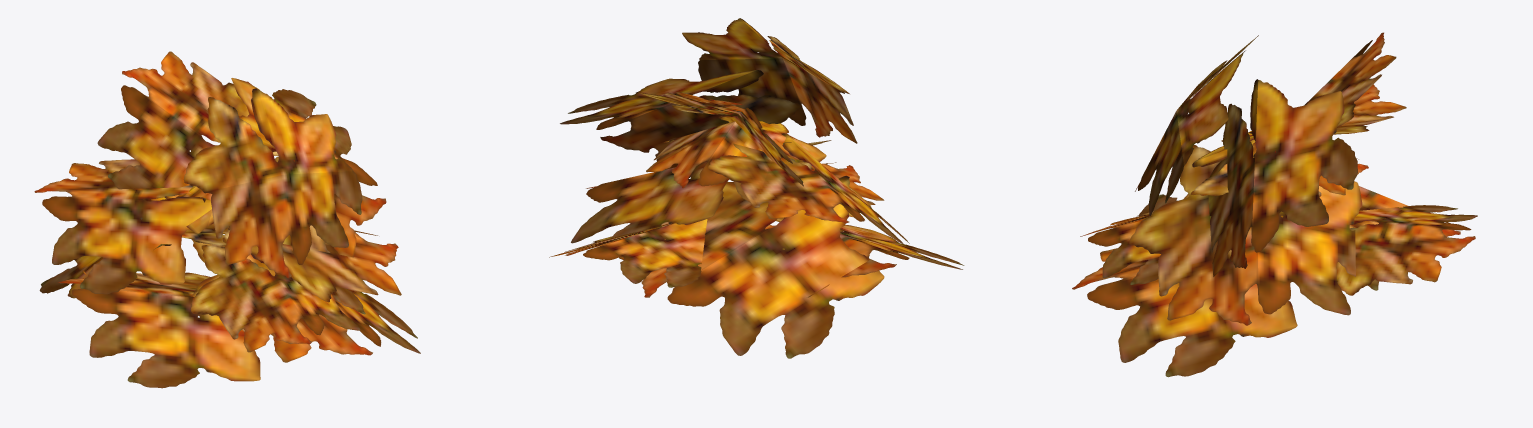
The model's file is cao01.FBX.
3 renders of one model, left to right at view 1: azimuth 30°, elevation 25°; view 2: azimuth 150°, elevation 25°; view 3: azimuth 270°, elevation 25°, orthographic. The views are drawn at different scales.
Visible parts, largest first — view 1: hua10; view 2: hua10; view 3: hua10.
Part boxes in pixels (bbox=[...]): hua10: bbox=[34, 51, 420, 388]; hua10: bbox=[549, 18, 964, 358]; hua10: bbox=[1072, 32, 1477, 377].
Bounding box in the file's own units: 67.52 × 45.95 × 64.34.
